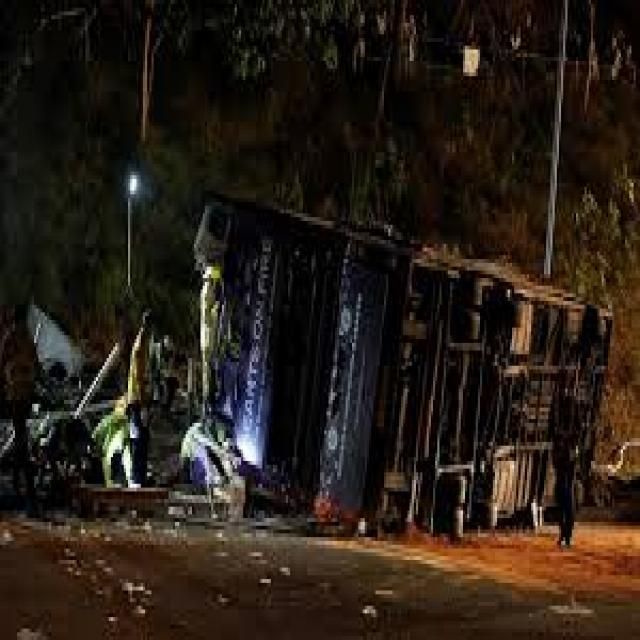accident: (163, 174, 626, 592)
